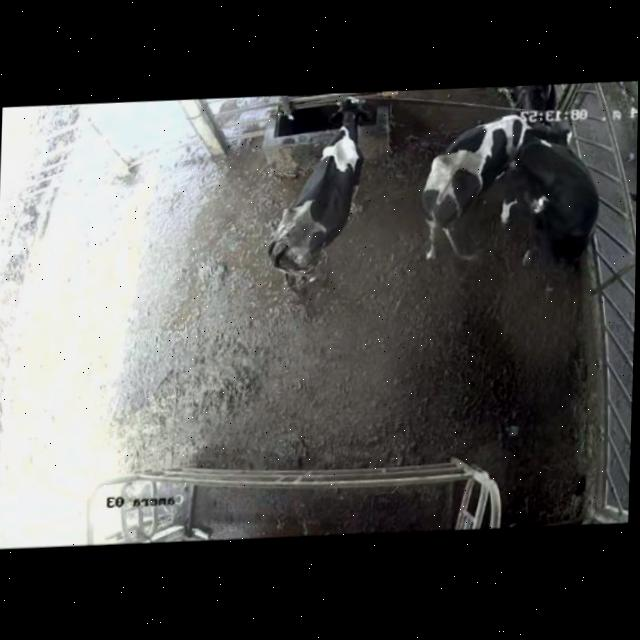drink: (302, 92, 377, 171)
lay: (509, 130, 605, 266)
stand: (412, 104, 571, 262)
